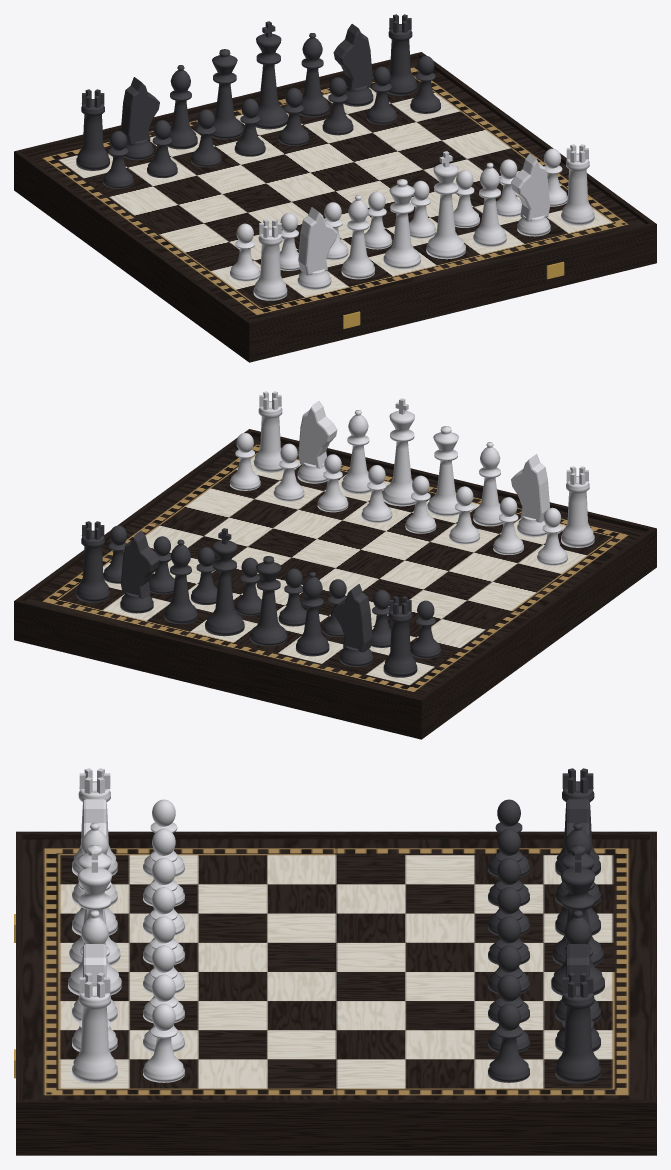
Rendered from philidor-3d-ebene-pliable-39-v2.glb.
3 renders of one model, top to bottom at view 1: azimuth 30°, elevation 25°; view 2: azimuth 150°, elevation 25°; view 3: azimuth 270°, elevation 25°, orthographic. The views are drawn at different scales.
Parts seen in each view (by area): view 1: ebene-pliable-39; view 2: ebene-pliable-39; view 3: ebene-pliable-39.
Boxes of the visible parts, box(x1,y1,x2,y2) form: ebene-pliable-39: box(14, 14, 656, 362); ebene-pliable-39: box(14, 391, 656, 739); ebene-pliable-39: box(14, 768, 656, 1155).
Size of what is drawn, in the model's own units: 0.39 by 0.1225 by 0.3912.
Materials: 5 (2 with a texture image).
